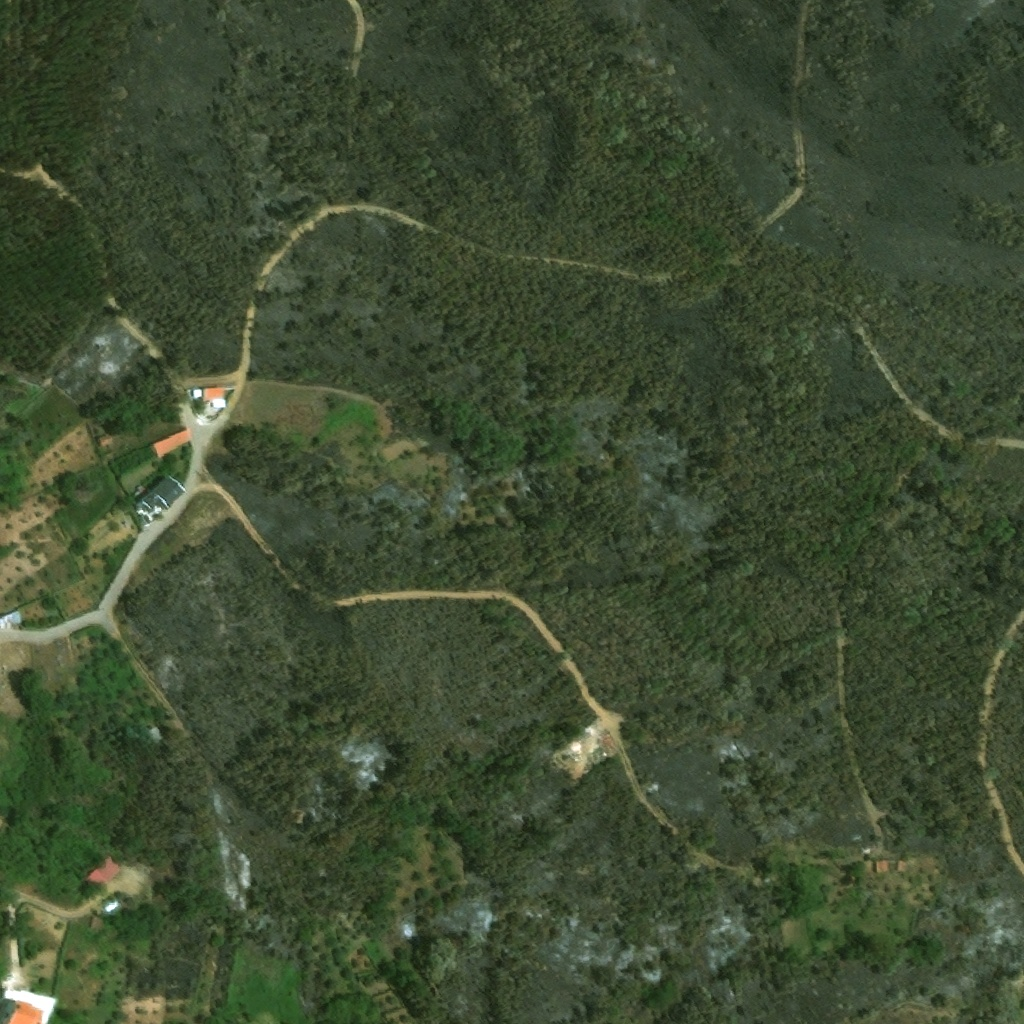0 no-damage: (134, 474, 187, 525), (81, 857, 121, 890), (148, 429, 190, 460), (0, 1001, 43, 1023), (145, 725, 164, 744), (0, 611, 20, 629), (202, 387, 224, 402), (88, 916, 105, 931), (874, 862, 888, 874), (897, 862, 908, 873)
2 major-damage: (424, 983, 438, 1001)
